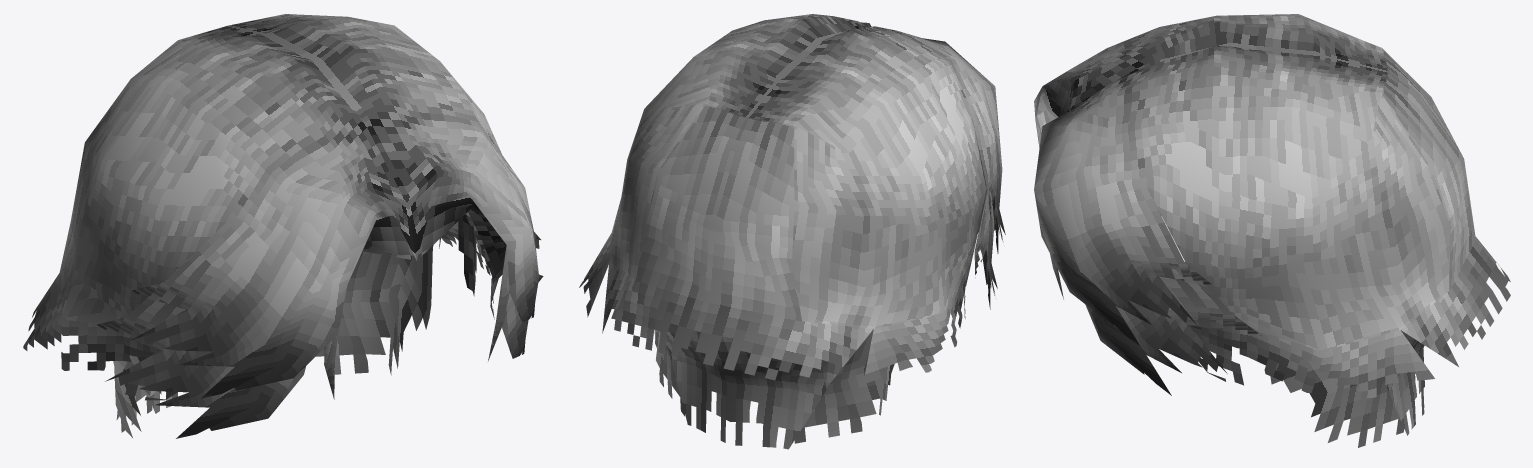
The model's file is m_body014.glb.
3 renders of one model, left to right at view 1: azimuth 30°, elevation 25°; view 2: azimuth 150°, elevation 25°; view 3: azimuth 270°, elevation 25°, orthographic. The views are drawn at different scales.
Bounding box in the file's own units: 22.38 × 21.49 × 24.62.
1 material, 1 textured.
